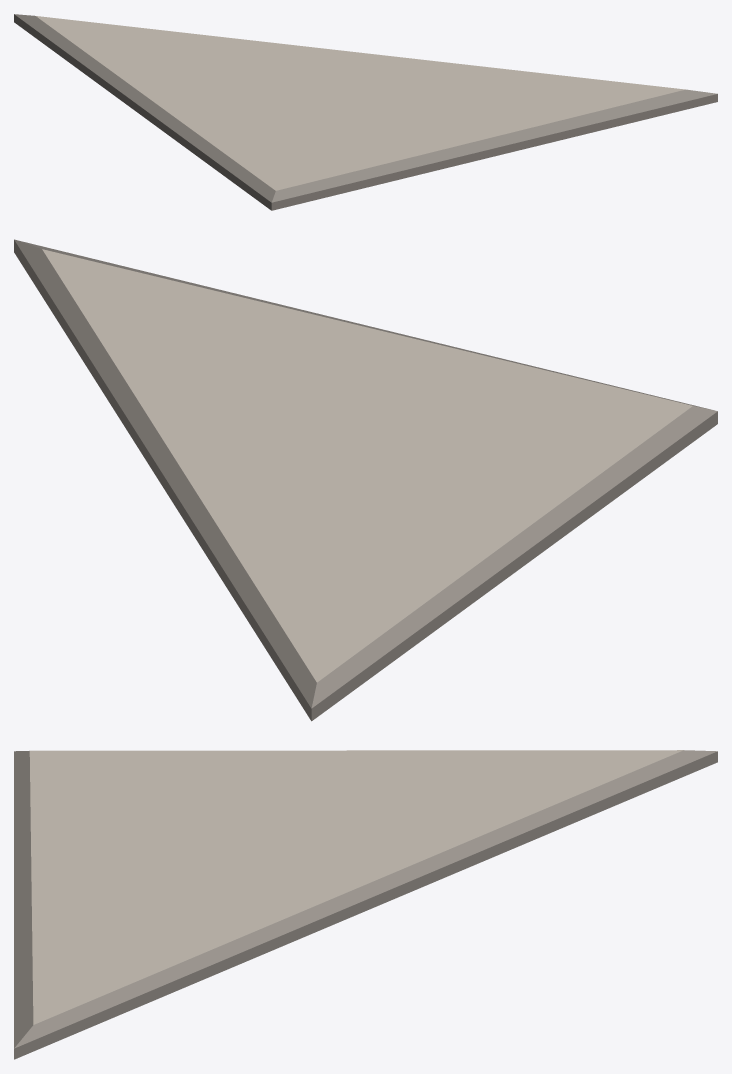
The model's file is Path_Slab_1x1_Corner.fbx.
The picture shows the model from 3 angles, top to bottom: view 1: azimuth 30°, elevation 25°; view 2: azimuth 150°, elevation 25°; view 3: azimuth 270°, elevation 25°; orthographic projection. The views are drawn at different scales.
Parts seen in each view (by area): view 1: Slab_1x1_Corner; view 2: Slab_1x1_Corner; view 3: Slab_1x1_Corner.
Part boxes in pixels (<box>): Slab_1x1_Corner: <box>14,14,717,210</box>; Slab_1x1_Corner: <box>14,239,717,721</box>; Slab_1x1_Corner: <box>14,750,717,1059</box>.
Size of the model in its own units: 100 by 2.85 by 100.
